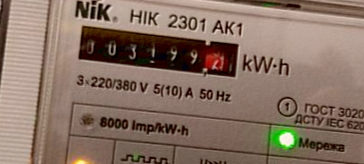0: (83, 35, 96, 54), (106, 36, 117, 56)
1: (148, 38, 157, 57)
3: (127, 41, 136, 60)
6: (210, 56, 220, 72)
9: (188, 47, 198, 65), (168, 42, 177, 60)
screen: (72, 20, 246, 83)
